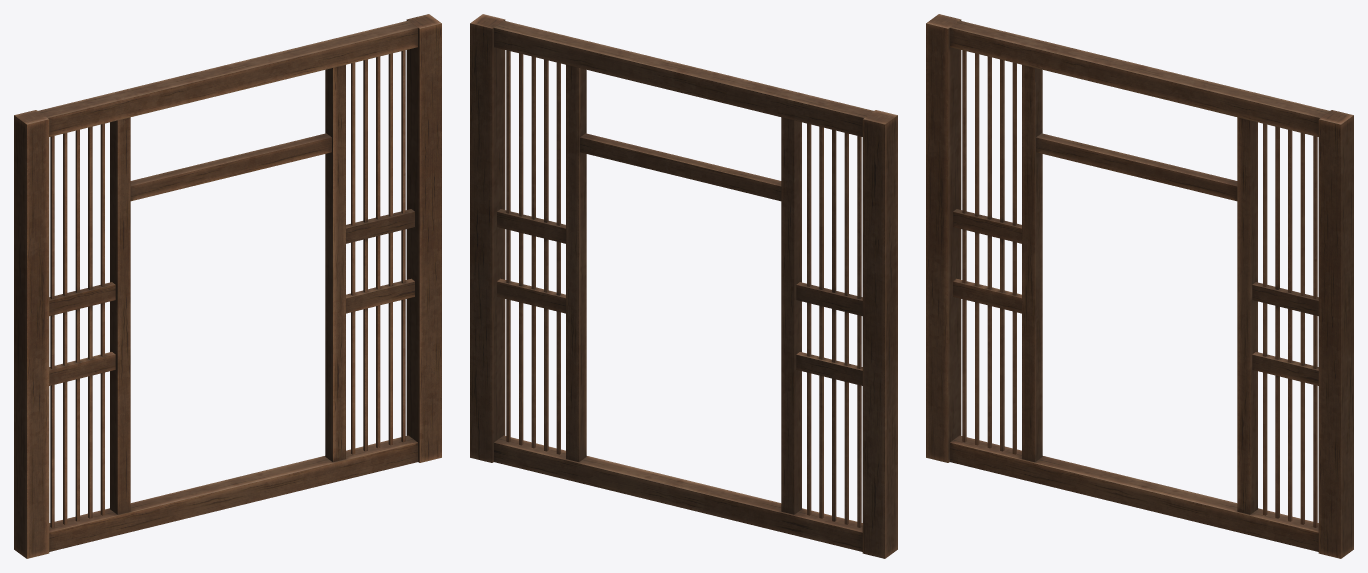
The model's file is Door_A.fbx.
3 views of the same model, side by side, from view 1: azimuth 30°, elevation 25°; view 2: azimuth 150°, elevation 25°; view 3: azimuth 330°, elevation 25° (orthographic).
Visible parts, largest first — view 1: Door_A; view 2: Door_A; view 3: Door_A.
Part boxes in pixels (x1,y1,x2,y2): Door_A: (14,14,441,558); Door_A: (470,14,897,558); Door_A: (926,14,1353,558).
Bounding box in the file's own units: 400 × 400 × 21.45.
